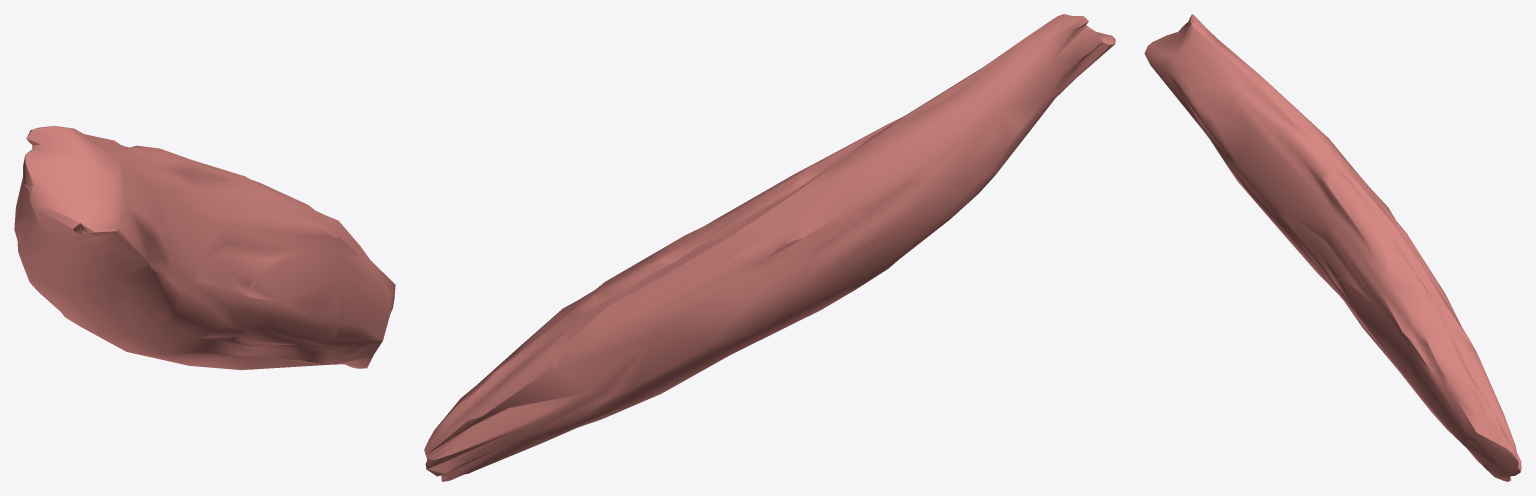
Rendered from fma32536_fj1584.glb.
3 views of the same model, side by side, from view 1: azimuth 30°, elevation 25°; view 2: azimuth 150°, elevation 25°; view 3: azimuth 270°, elevation 25° (orthographic). The views are drawn at different scales.
Parts seen in each view (by area): view 1: FMA32536_FJ1584; view 2: FMA32536_FJ1584; view 3: FMA32536_FJ1584.
Boxes of the visible parts, box(x1,y1,x2,y2) form: FMA32536_FJ1584: box(14, 125, 395, 370); FMA32536_FJ1584: box(424, 14, 1115, 481); FMA32536_FJ1584: box(1144, 14, 1521, 481).
Size of the model in its own units: 0.0389 by 0.0339 by 0.0372.
